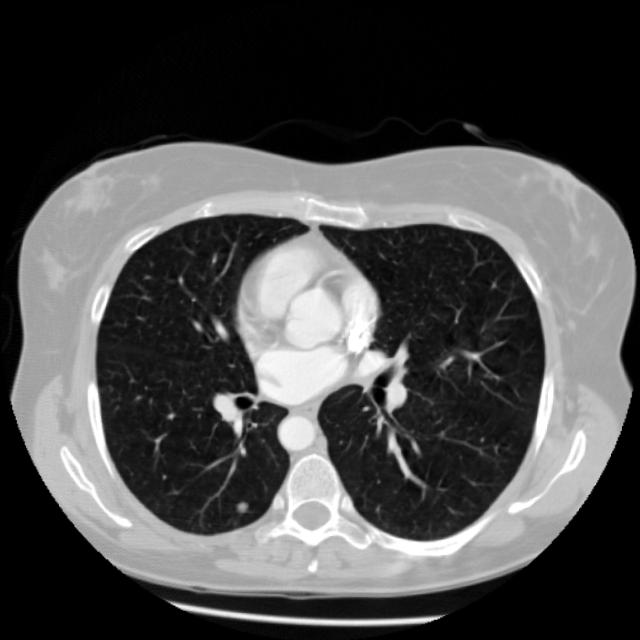nodule: (229, 492, 258, 521)
